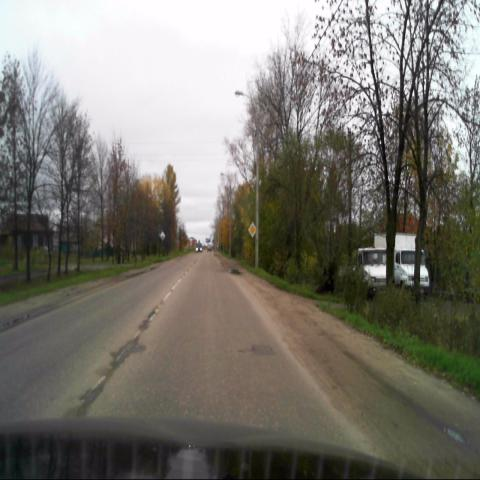2_1: (248, 221, 256, 237)
